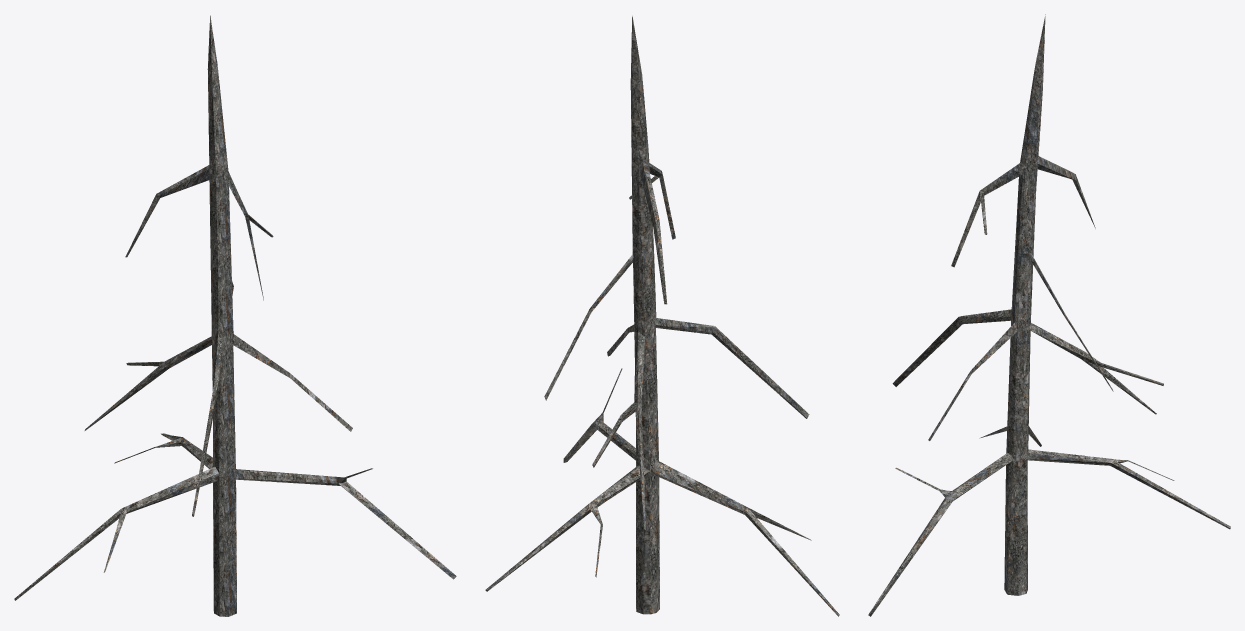
Rendered from tree02_b.glb.
3 views of the same model, side by side, from view 1: azimuth 30°, elevation 25°; view 2: azimuth 150°, elevation 25°; view 3: azimuth 270°, elevation 25° (orthographic). The views are drawn at different scales.
Parts seen in each view (by area): view 1: 5_bark-2_0; view 2: 5_bark-2_0; view 3: 5_bark-2_0.
Part boxes in pixels (x1=…): 5_bark-2_0: x1=14, y1=15, x2=456, y2=616; 5_bark-2_0: x1=485, y1=16, x2=839, y2=616; 5_bark-2_0: x1=868, y1=14, x2=1230, y2=616.
Bounding box in the file's own units: 5.53 × 8.75 × 4.98.
Materials: 1 (1 with a texture image).
